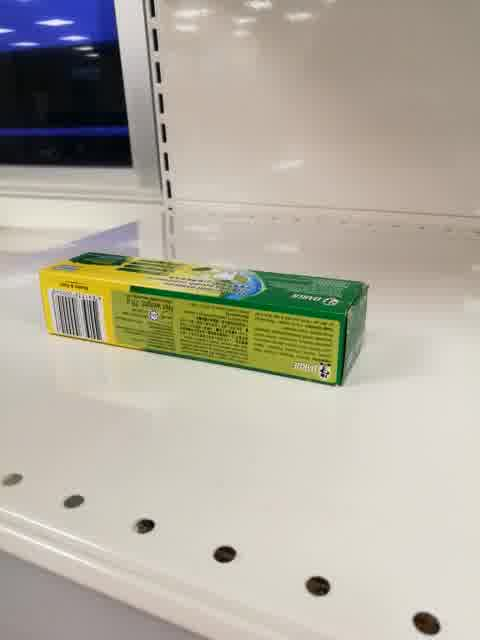toothpaste: (39, 253, 369, 387)
